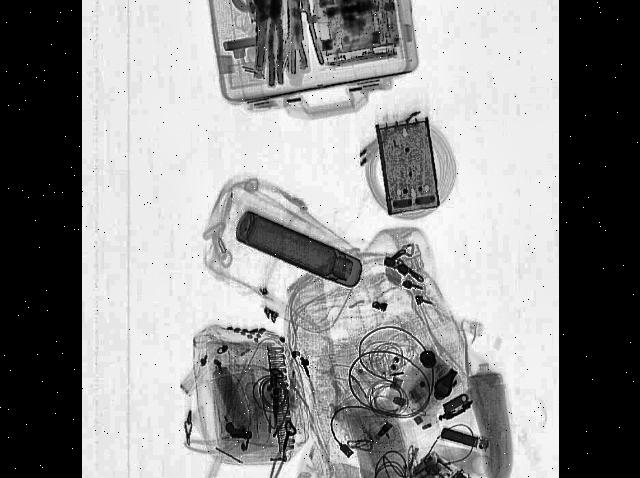Pliers: (265, 0, 282, 86)
